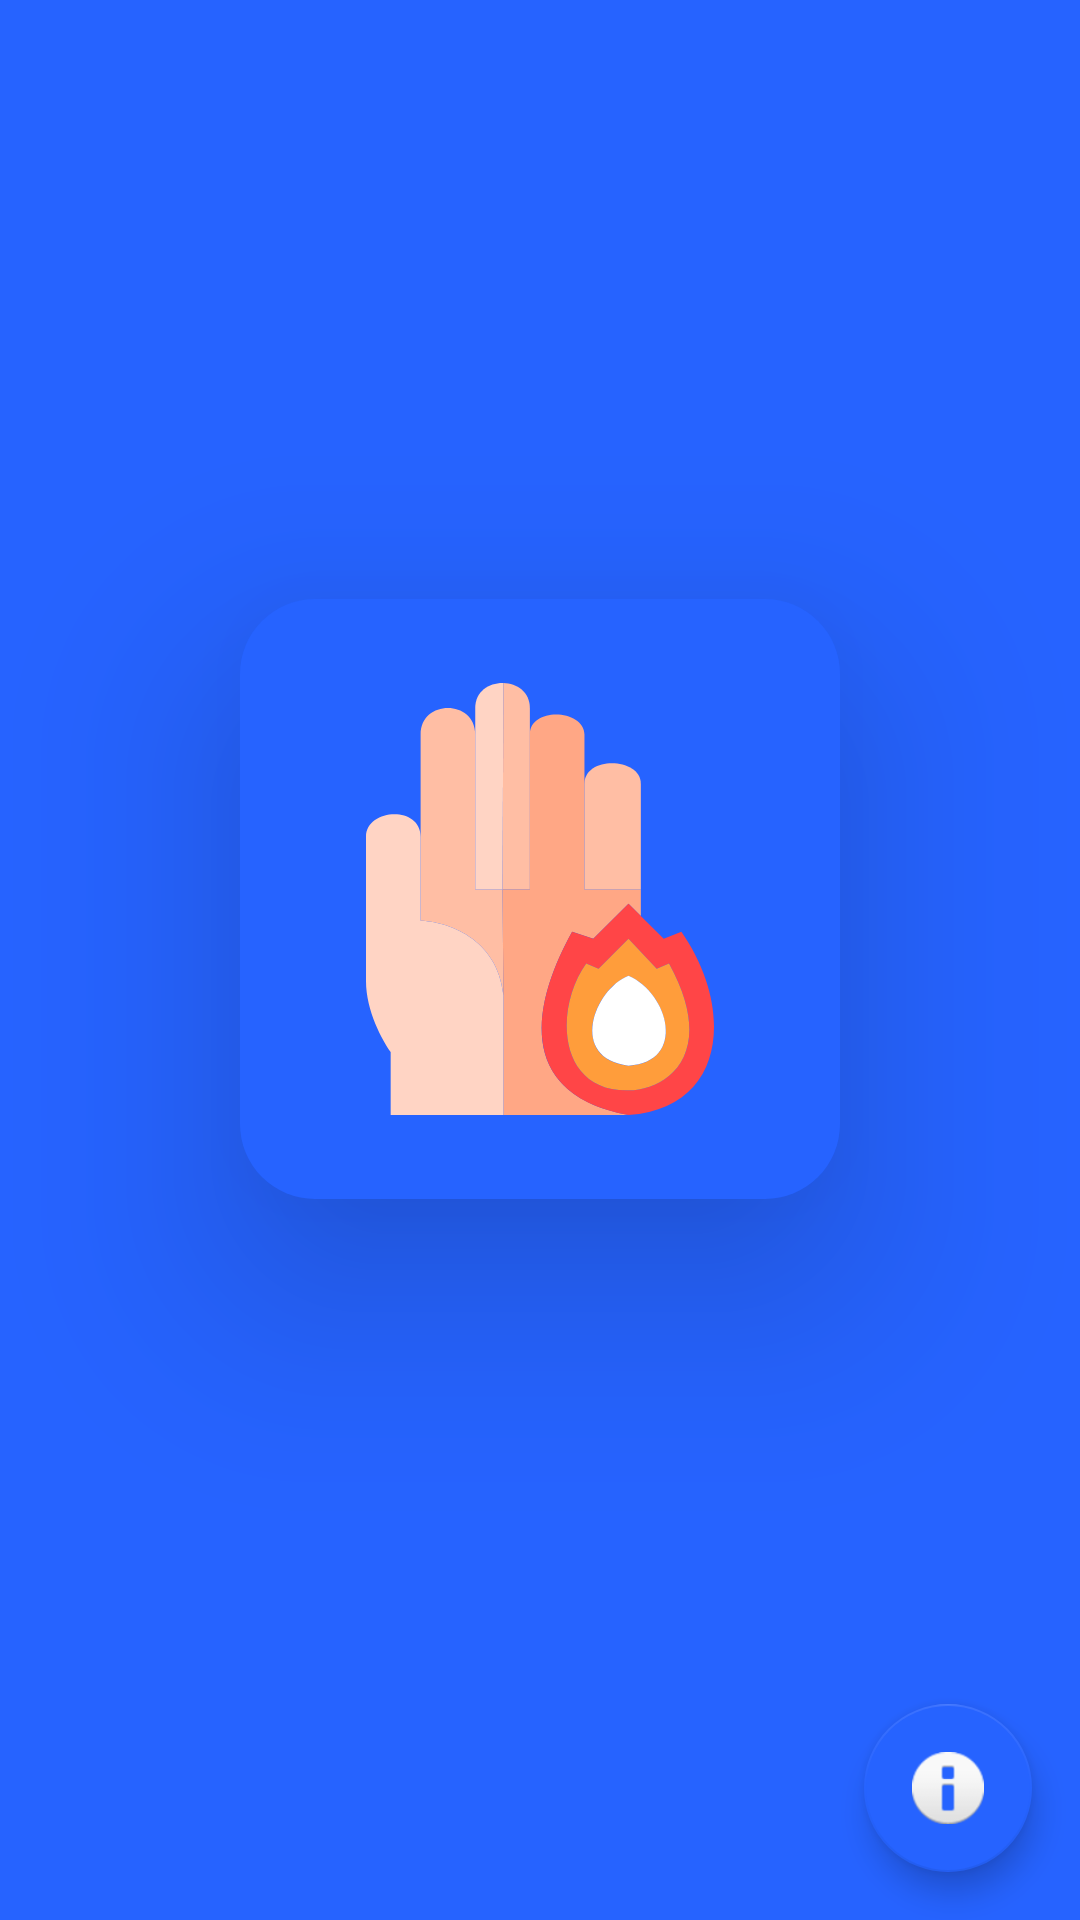

Icons on this 1080 × 1920 Android screen, each with the point to tap as (x,y):
info: (926,1764)
